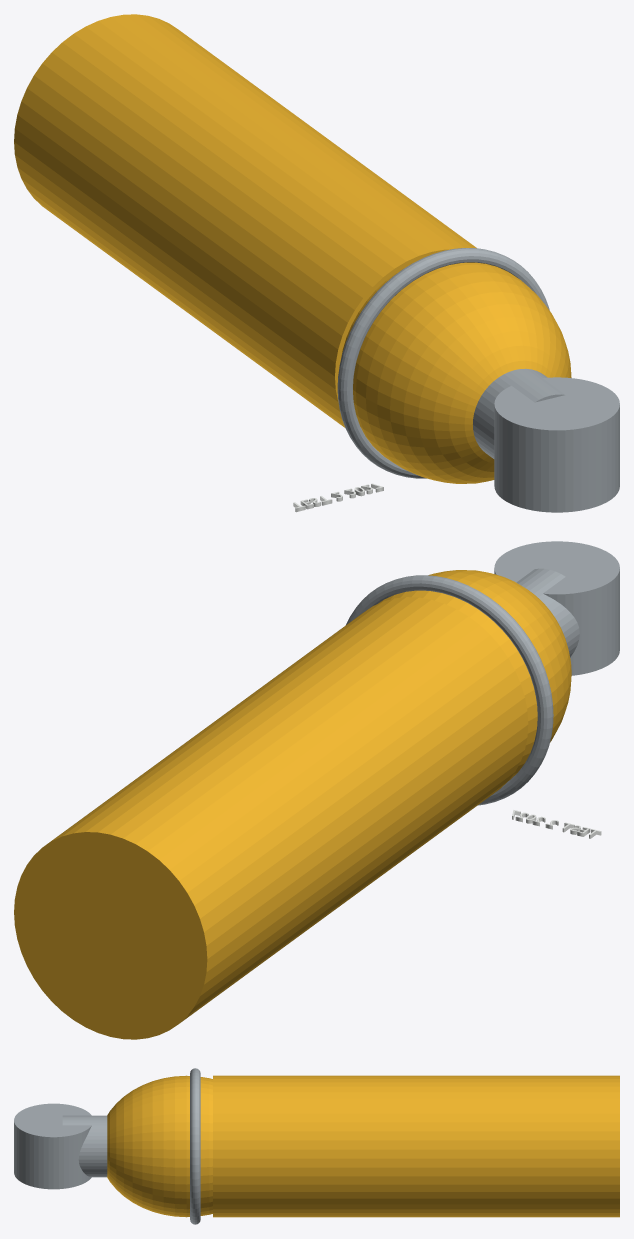
Rendered from BOTTLE2.glb.
3 views of the same model, one above another, from view 1: azimuth 30°, elevation 25°; view 2: azimuth 150°, elevation 25°; view 3: azimuth 270°, elevation 25° (orthographic). The views are drawn at different scales.
Parts seen in each view (by area): view 1: BOTTLE2, BOTTLE2_shoulder, BOTTLE2_valve, BOTTLE2_ring, BOTTLE2_neck, BOTTLE2_stamp; view 2: BOTTLE2, BOTTLE2_valve, BOTTLE2_shoulder, BOTTLE2_ring, BOTTLE2_neck, BOTTLE2_stamp; view 3: BOTTLE2, BOTTLE2_shoulder, BOTTLE2_valve, BOTTLE2_neck, BOTTLE2_ring.
Part boxes in pixels (x1=…): BOTTLE2: x1=14, y1=14, x2=476, y2=427; BOTTLE2_shoulder: x1=341, y1=262, x2=571, y2=483; BOTTLE2_valve: x1=494, y1=377, x2=619, y2=512; BOTTLE2_ring: x1=337, y1=248, x2=549, y2=478; BOTTLE2_neck: x1=473, y1=368, x2=565, y2=458; BOTTLE2_stamp: x1=293, y1=483, x2=383, y2=512; BOTTLE2: x1=14, y1=597, x2=528, y2=1039; BOTTLE2_valve: x1=494, y1=541, x2=619, y2=675; BOTTLE2_shoulder: x1=378, y1=570, x2=571, y2=780; BOTTLE2_ring: x1=346, y1=575, x2=553, y2=805; BOTTLE2_neck: x1=516, y1=568, x2=579, y2=657; BOTTLE2_stamp: x1=512, y1=810, x2=601, y2=838; BOTTLE2: x1=213, y1=1075, x2=619, y2=1217; BOTTLE2_shoulder: x1=107, y1=1075, x2=212, y2=1217; BOTTLE2_valve: x1=14, y1=1103, x2=91, y2=1189; BOTTLE2_neck: x1=62, y1=1115, x2=107, y2=1177; BOTTLE2_ring: x1=190, y1=1068, x2=200, y2=1224.
Bounding box in the file's own units: 0.4296 × 0.354 × 1.37.
